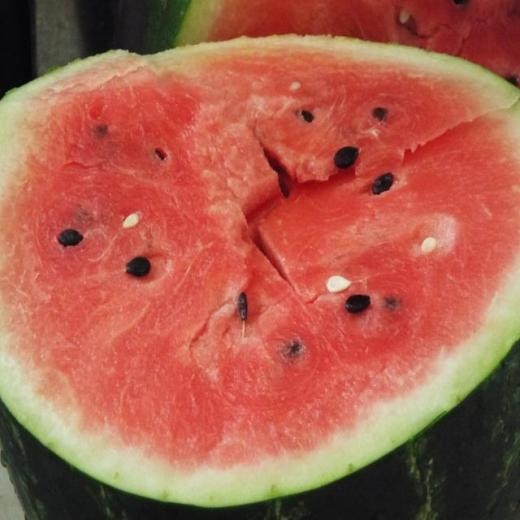Cherry: (0, 34, 520, 520)
